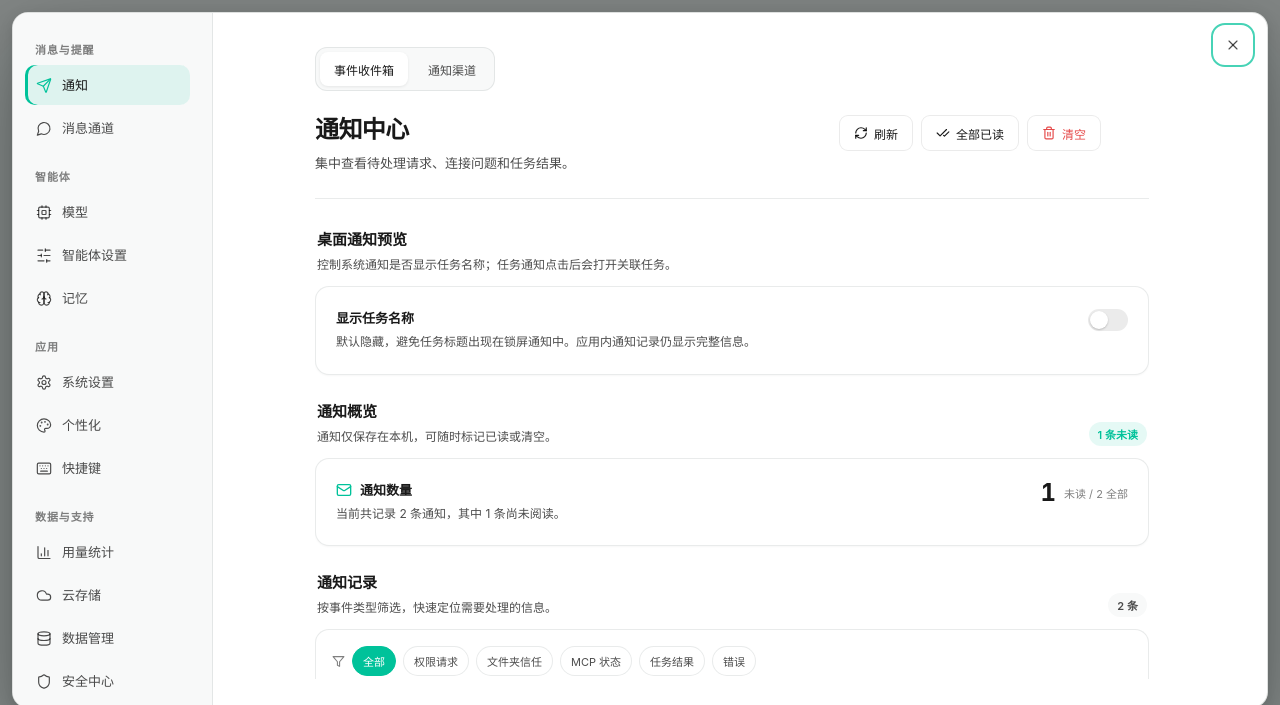
Test: SettingsPanel › 通知类型可按后端 snake_case 值筛选
What coordinates should you click on to do the following:
click the button "文件夹信任"
I would click on:
 (514, 661)
Its box is [476,646,553,676].
(page scrolled)
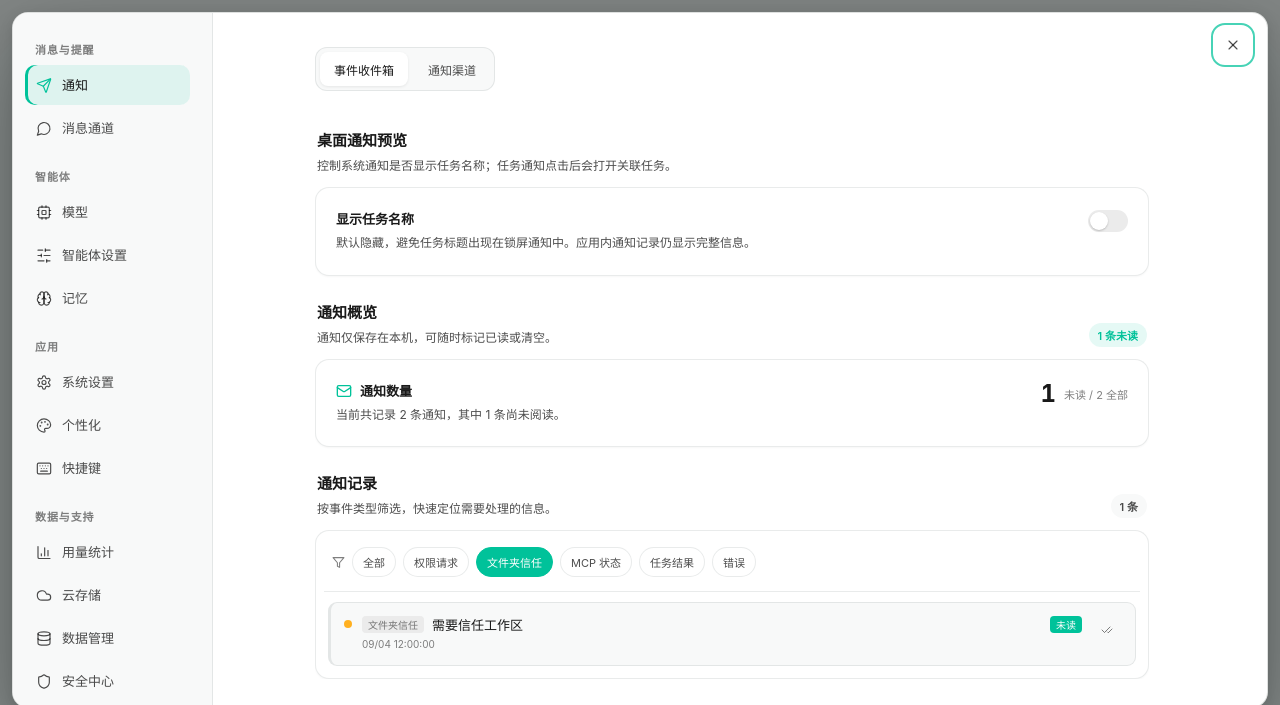
Check: the text "需要信任工作区" is shown, box [432,617,523,633]
